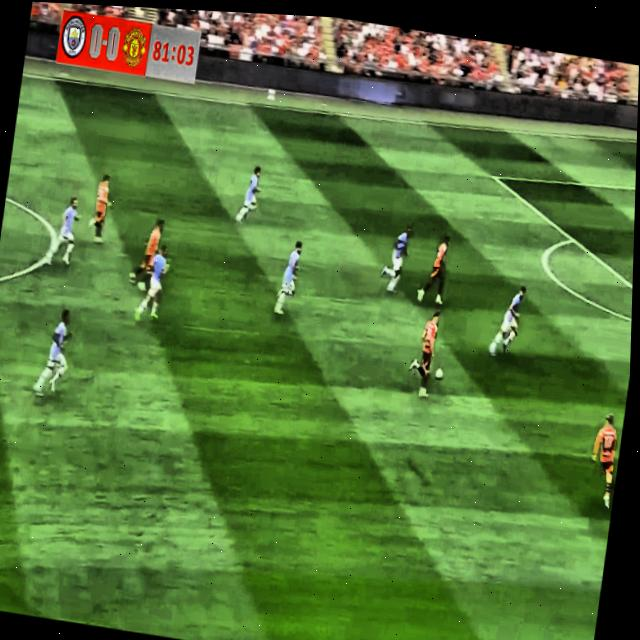ball: (428, 365, 445, 387)
players: (577, 402, 624, 515), (27, 302, 79, 401), (402, 304, 449, 407), (124, 203, 170, 300), (128, 237, 174, 330), (268, 235, 314, 322), (412, 223, 457, 311), (486, 278, 530, 364), (373, 215, 415, 301), (44, 190, 83, 274), (228, 158, 270, 234), (85, 171, 116, 242)
